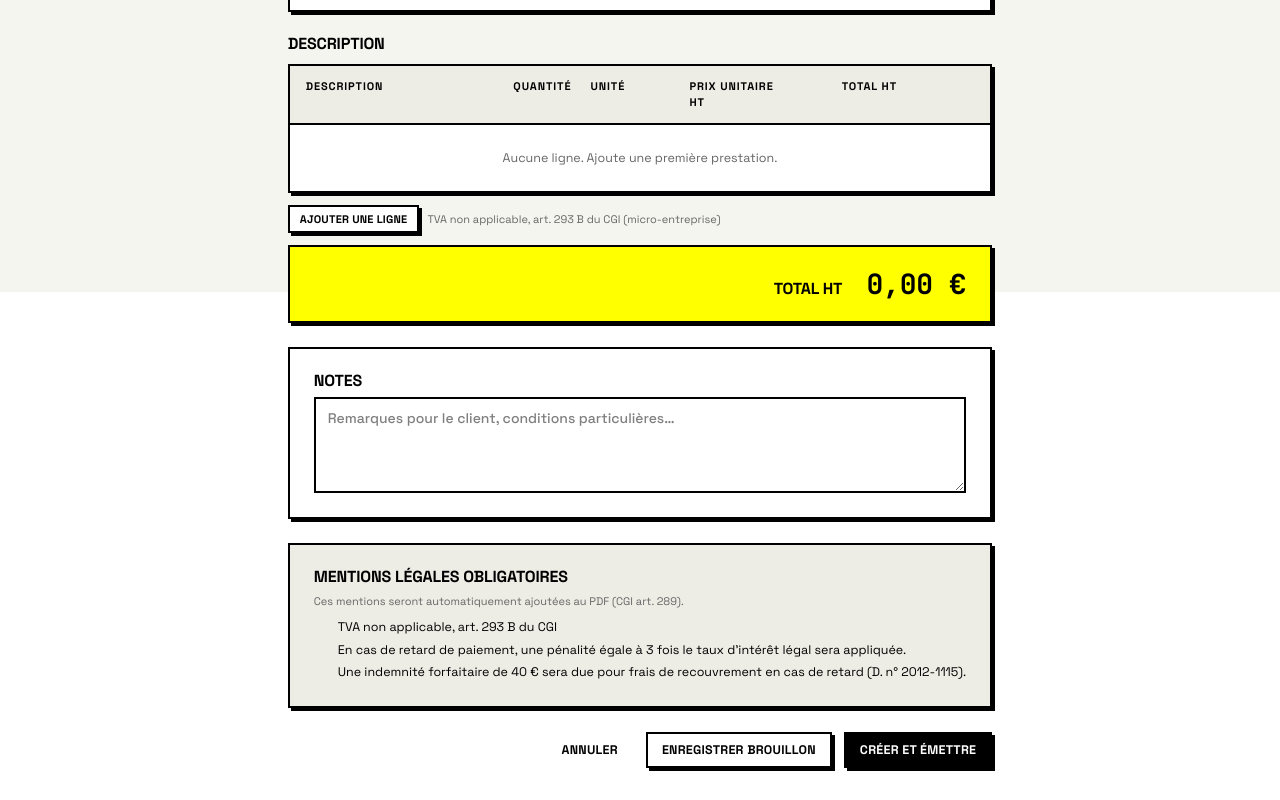
Test: NewScratch › affiche des erreurs quand on tente de créer sans client ni item
Expected: the button with test id "invoice-save-draft" is shown, [646, 732, 832, 768]
Click the button with test id "invoice-create-and-issue" at (918, 750), box [844, 732, 992, 768]
(page scrolled)
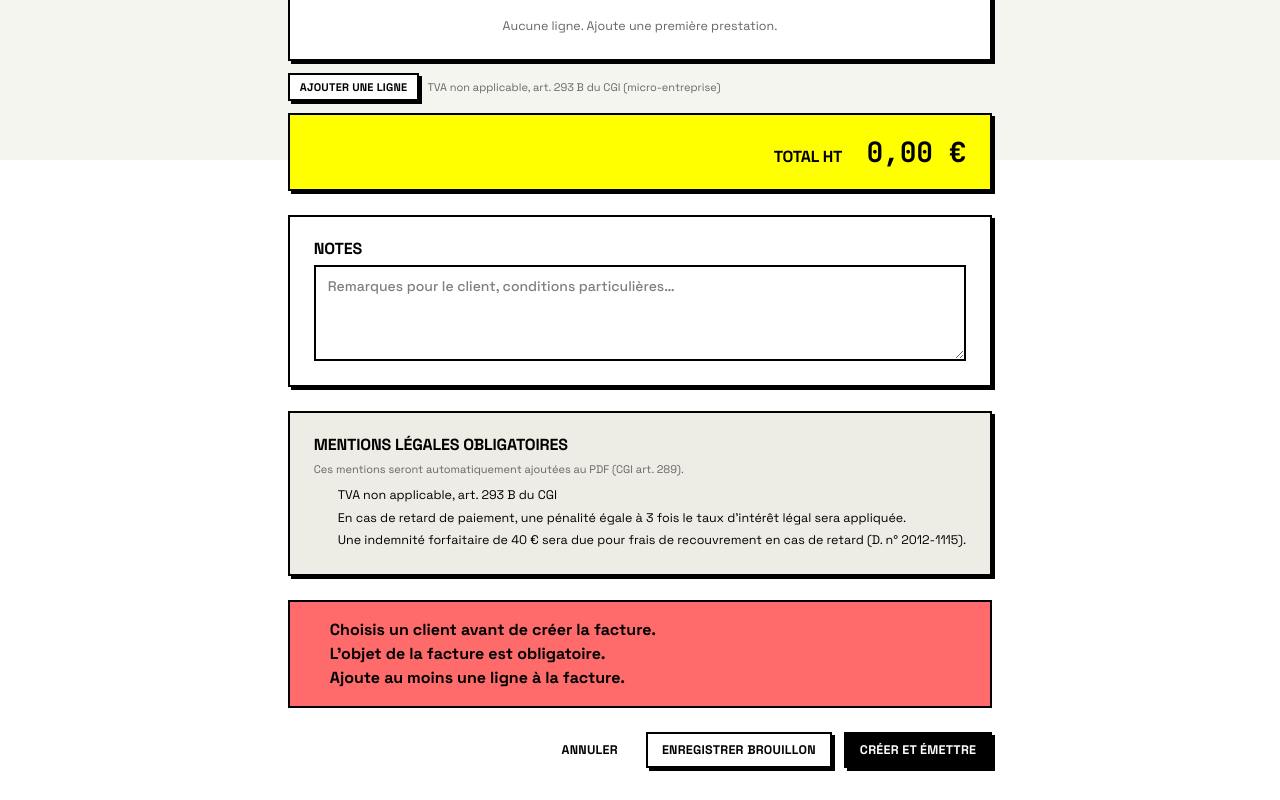
Expected: the message with test id "form-errors" is shown, [288, 600, 992, 708]
